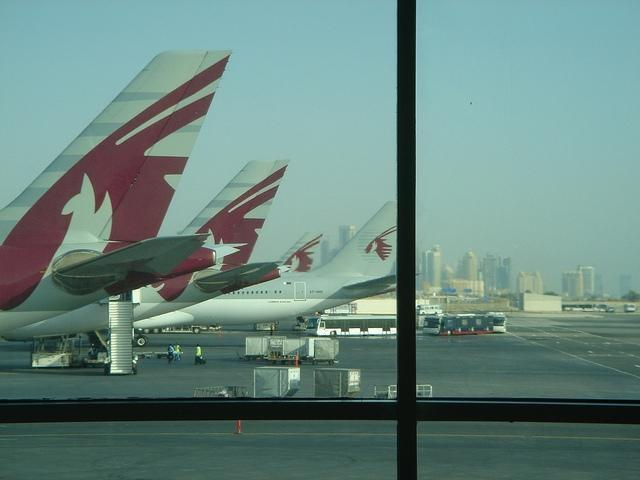bus: (315, 316, 397, 336), (424, 317, 491, 337), (487, 311, 506, 333), (623, 304, 636, 313)
car: (448, 296, 464, 304)
truck: (245, 335, 339, 367)
